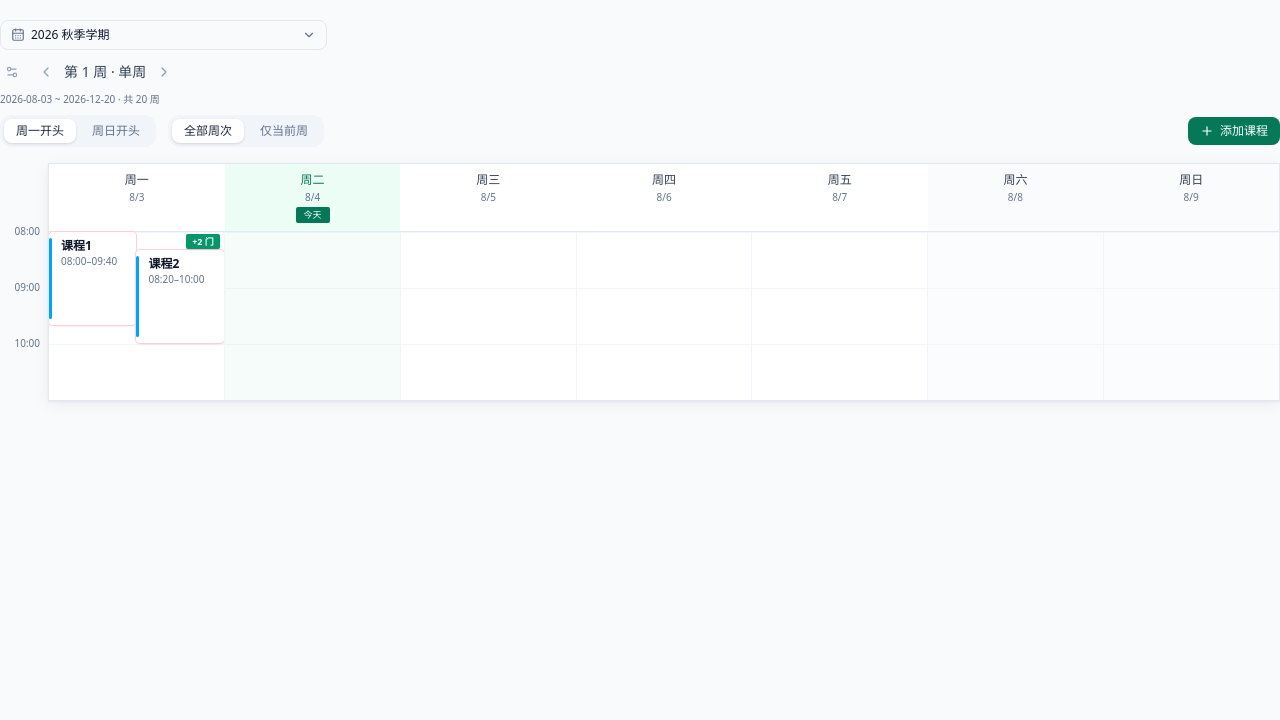
Test: 视图空态 › 四门同周重叠只显示两列并折叠为 +N
Click the button "+2 门" at (203, 241), box [186,234,220,249]
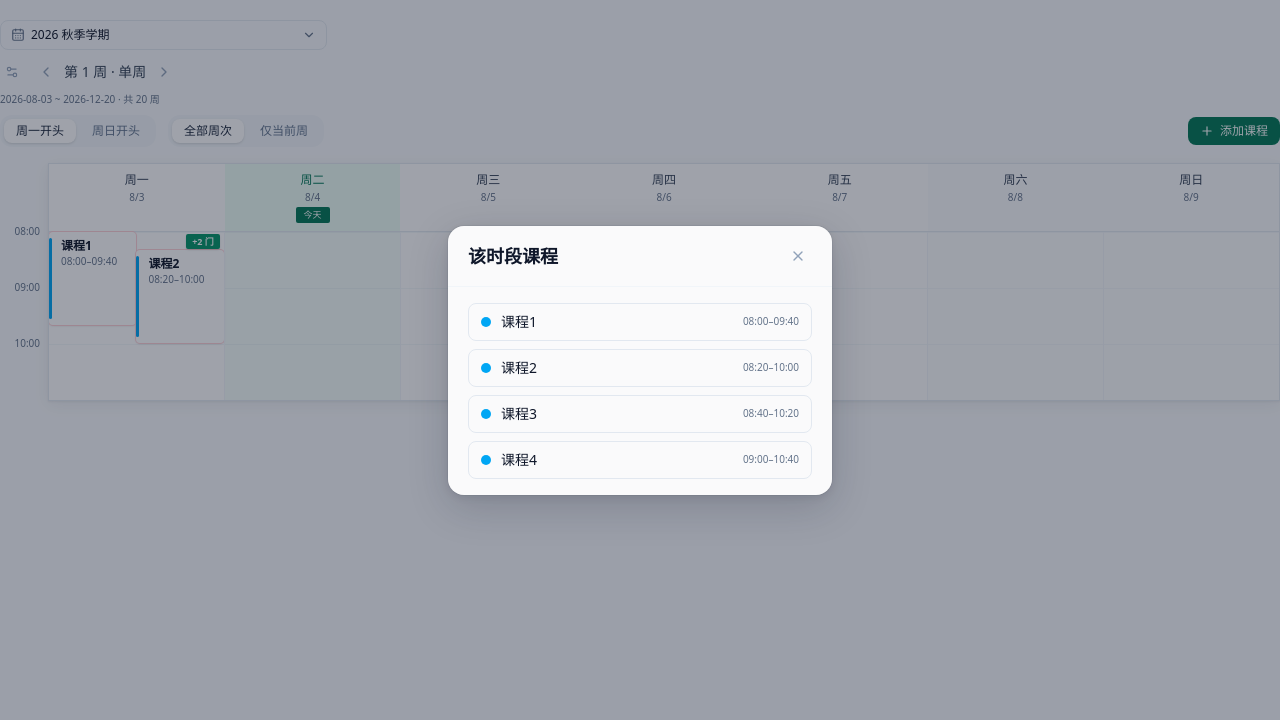
Expected: the heading "该时段课程" is shown, [468,242,558,270]
Expected: the text "课程1" is shown, [501,312,537,330]
Expected: the text "课程4" is shown, [501,450,537,468]
